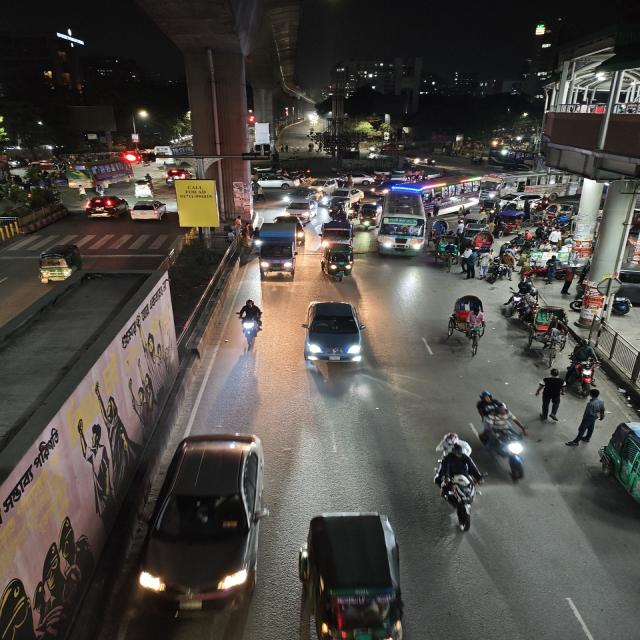bicycle: (531, 314, 570, 357)
bus: (391, 174, 480, 216), (374, 209, 428, 257), (484, 173, 570, 196), (68, 159, 133, 189)
car: (138, 428, 272, 616), (300, 298, 365, 372), (278, 188, 320, 220), (82, 194, 126, 220), (128, 199, 168, 223), (327, 189, 366, 208), (253, 172, 293, 190), (308, 176, 338, 192)
cng: (298, 508, 412, 640), (599, 414, 640, 524), (32, 243, 86, 287), (322, 245, 356, 282)
motorcycle: (429, 435, 482, 533), (473, 388, 530, 478), (566, 338, 604, 394), (232, 297, 266, 350), (504, 280, 542, 324)
pedestrian: (534, 368, 567, 422), (576, 389, 608, 443), (459, 248, 478, 278), (542, 254, 560, 284)
pickup_van: (321, 219, 354, 248)
rickshaw: (443, 291, 490, 351), (436, 234, 460, 268), (357, 202, 379, 230), (469, 230, 495, 252), (133, 180, 156, 198)
truck: (250, 218, 298, 279)
